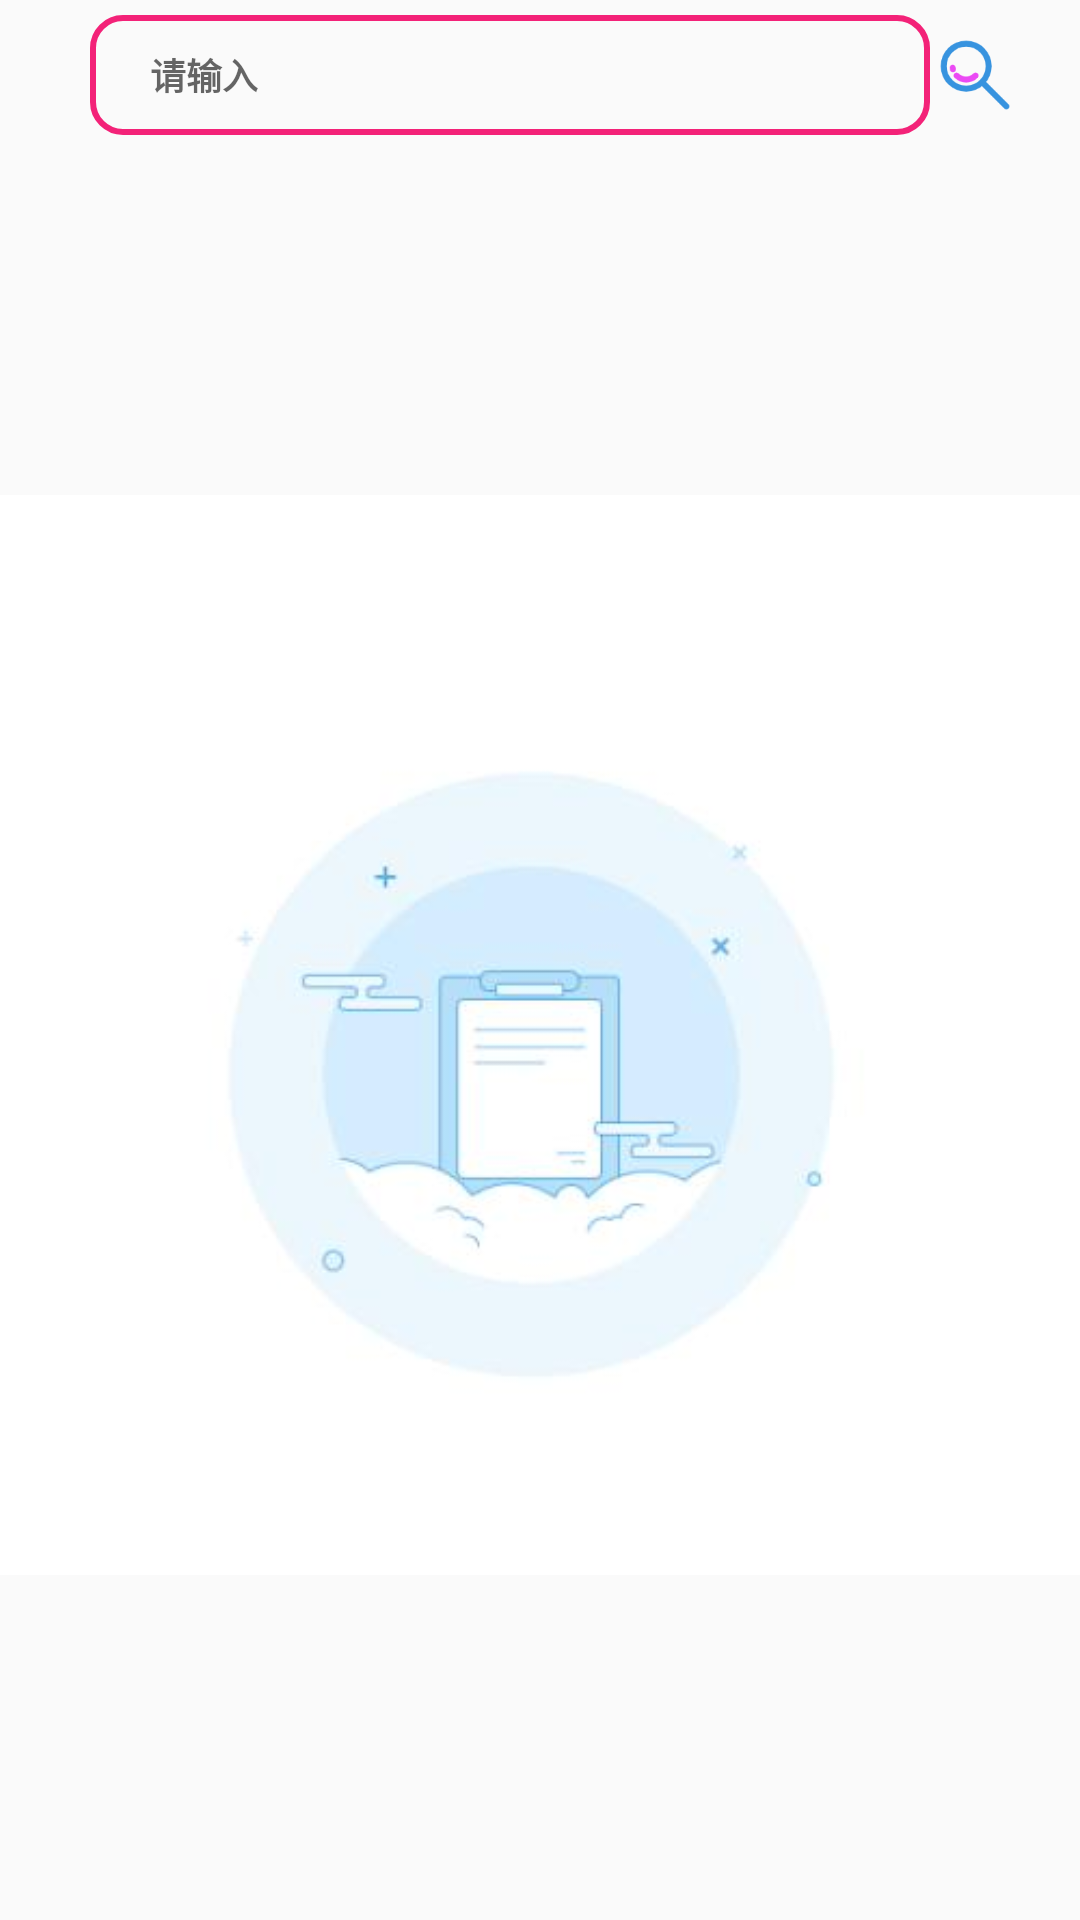

Icon click points for this 1080 × 1920 phone screenshot, format (x=x, y=y):
searchc: (x=975, y=75)
